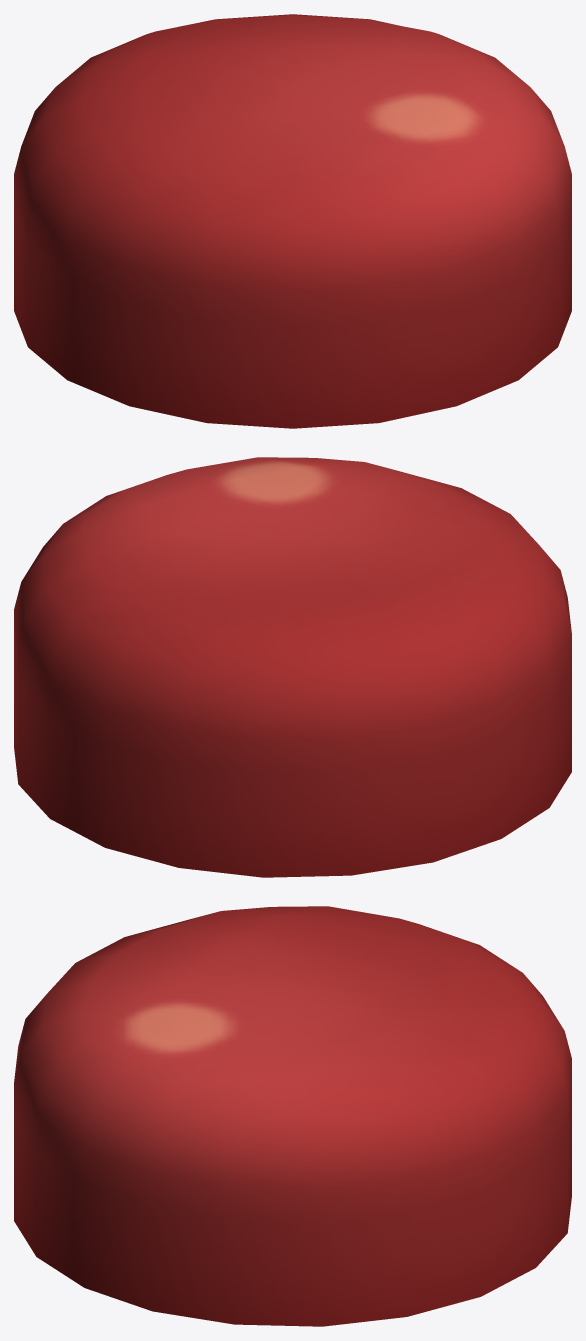
File: ML_StartButton.fbx
3 renders of one model, top to bottom at view 1: azimuth 30°, elevation 25°; view 2: azimuth 150°, elevation 25°; view 3: azimuth 270°, elevation 25°, orthographic.
Visible parts, largest first — view 1: Object010; view 2: Object010; view 3: Object010.
Part boxes in pixels (bbox=[...]): Object010: bbox=[14, 14, 571, 428]; Object010: bbox=[14, 457, 571, 877]; Object010: bbox=[14, 906, 571, 1326].
Bounding box in the file's own units: 28.79 × 12.45 × 28.76.
